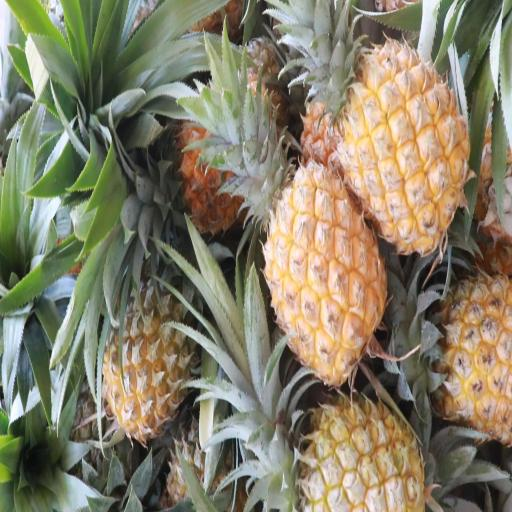Pineapple - v8 v1: (320, 36, 472, 250), (250, 162, 384, 383), (262, 366, 419, 512), (386, 270, 512, 432), (99, 238, 189, 428)
